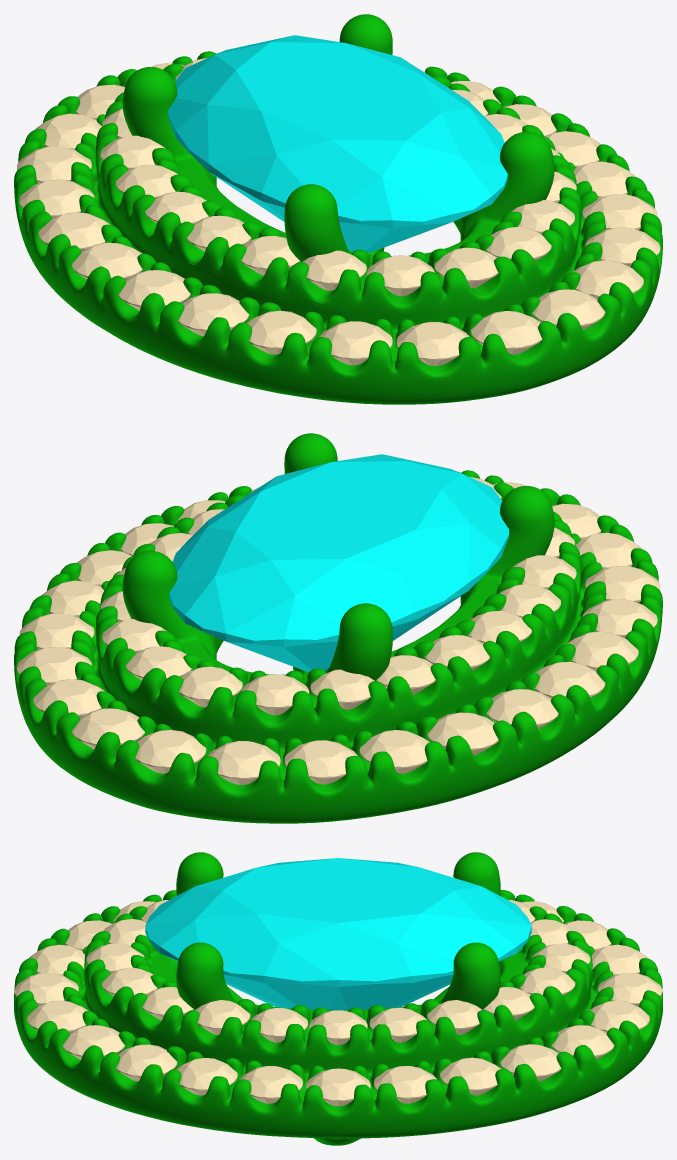
The picture shows the model from 3 angles, top to bottom: view 1: azimuth 30°, elevation 25°; view 2: azimuth 150°, elevation 25°; view 3: azimuth 270°, elevation 25°; orthographic projection. The views are drawn at different scales.
Visible parts, largest first — view 1: Metal01, Diamond_Oval, Diamond_Round.006, Diamond_Round.007, Diamond_Round.005, Diamond_Round.004, Diamond_Round.003, Diamond_Round.008, Diamond_Round.002, Diamond_Round.001, Diamond_Round.009, Diamond_Round (+20 smaller); view 2: Metal01, Diamond_Oval, Diamond_Round.020, Diamond_Round.019, Diamond_Round.021, Diamond_Round.022, Diamond_Round.023, Diamond_Round.018, Diamond_Round, Diamond_Round.001, Diamond_Round.002, Diamond_Round.017 (+20 smaller); view 3: Metal01, Diamond_Oval, Diamond_Round.013, Diamond_Round.012, Diamond_Round.015, Diamond_Round.014, Diamond_Round.011, Diamond_Round.010, Diamond_Round.016, Diamond_Round.009, Diamond_Round.017, Diamond_Round.008 (+20 smaller).
Boxes of the visible parts, x1=… form: Metal01: x1=14, y1=14, x2=662, y2=404; Diamond_Oval: x1=168, y1=35, x2=507, y2=253; Diamond_Round.006: x1=396, y1=321, x2=469, y2=365; Diamond_Round.007: x1=471, y1=311, x2=542, y2=354; Diamond_Round.005: x1=319, y1=321, x2=392, y2=365; Diamond_Round.004: x1=246, y1=310, x2=316, y2=354; Diamond_Round.003: x1=178, y1=293, x2=249, y2=336; Diamond_Round.008: x1=532, y1=289, x2=605, y2=330; Diamond_Round.002: x1=118, y1=270, x2=190, y2=310; Diamond_Round.001: x1=72, y1=242, x2=142, y2=279; Diamond_Round.009: x1=572, y1=260, x2=643, y2=299; Diamond_Round: x1=38, y1=212, x2=110, y2=251; Metal01: x1=14, y1=433, x2=662, y2=823; Diamond_Oval: x1=169, y1=454, x2=509, y2=672; Diamond_Round.020: x1=208, y1=741, x2=280, y2=784; Diamond_Round.019: x1=135, y1=730, x2=206, y2=773; Diamond_Round.021: x1=284, y1=740, x2=357, y2=784; Diamond_Round.022: x1=359, y1=730, x2=429, y2=773; Diamond_Round.023: x1=427, y1=712, x2=498, y2=755; Diamond_Round.018: x1=72, y1=708, x2=144, y2=749; Diamond_Round: x1=486, y1=689, x2=558, y2=729; Diamond_Round.001: x1=534, y1=661, x2=605, y2=698; Diamond_Round.002: x1=566, y1=631, x2=638, y2=671; Diamond_Round.017: x1=33, y1=679, x2=104, y2=717; Metal01: x1=14, y1=852, x2=662, y2=1145; Diamond_Oval: x1=145, y1=858, x2=531, y2=1010; Diamond_Round.013: x1=306, y1=1068, x2=370, y2=1106; Diamond_Round.012: x1=239, y1=1066, x2=302, y2=1103; Diamond_Round.015: x1=440, y1=1057, x2=500, y2=1095; Diamond_Round.014: x1=374, y1=1066, x2=436, y2=1103; Diamond_Round.011: x1=176, y1=1058, x2=237, y2=1095; Diamond_Round.010: x1=116, y1=1044, x2=177, y2=1081; Diamond_Round.016: x1=500, y1=1044, x2=561, y2=1081; Diamond_Round.009: x1=62, y1=1025, x2=125, y2=1059; Diamond_Round.017: x1=551, y1=1025, x2=614, y2=1059; Diamond_Round.008: x1=27, y1=1000, x2=88, y2=1033.
Size of the model in its own units: 12.54 by 6.6 by 15.61.
